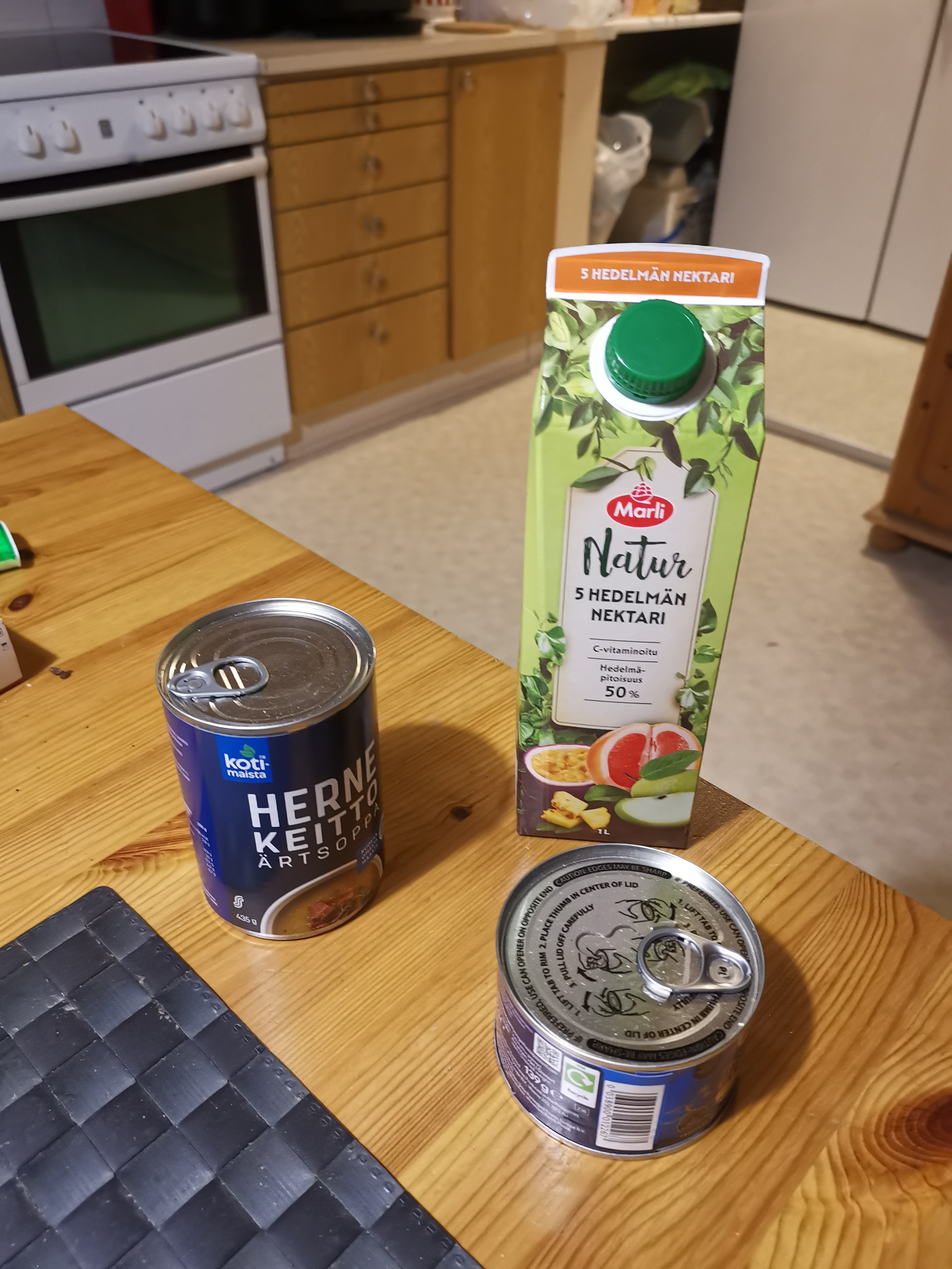Dryckeskartong: (513, 240, 773, 853)
Konservburk: (491, 841, 768, 1164), (152, 595, 390, 944)
